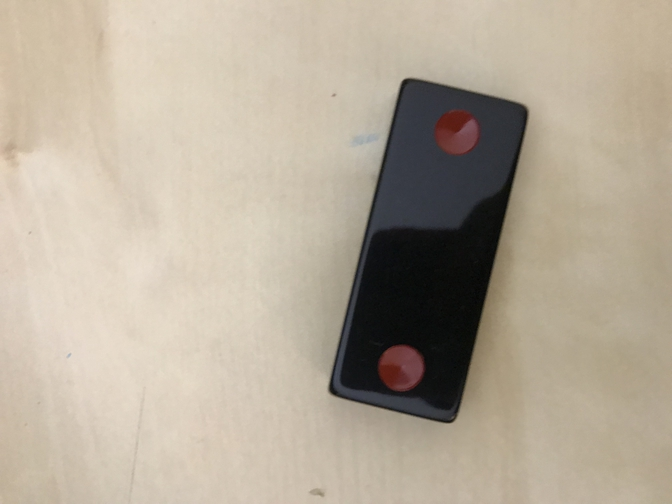earth: (327, 77, 528, 425)
